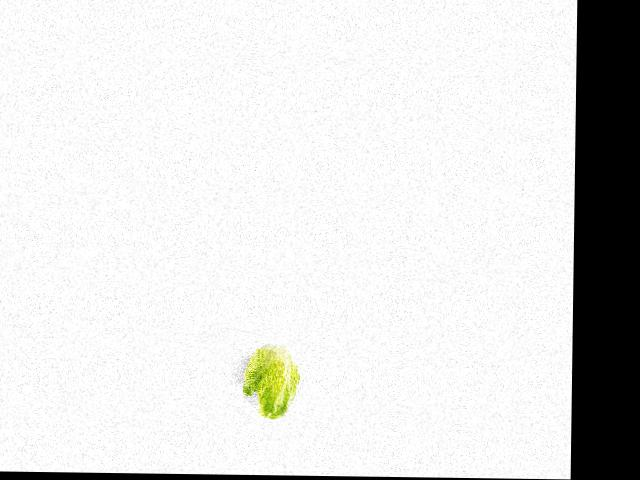lettuce: (241, 336, 303, 424)
